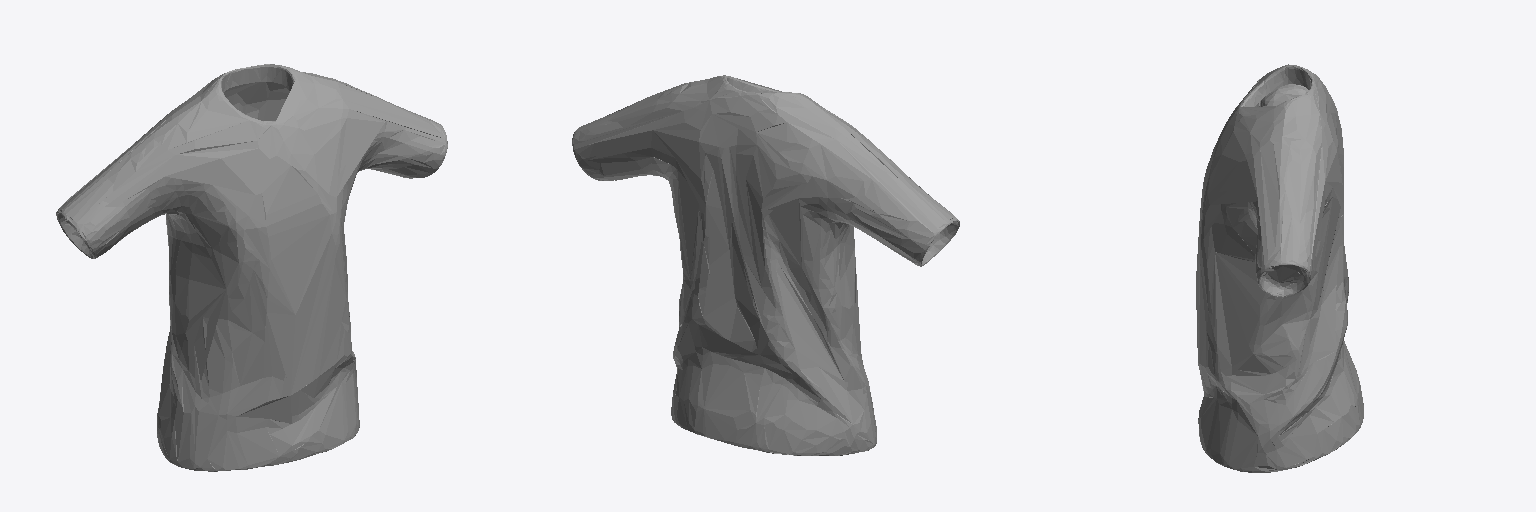
File: shirt_white.obj
3 renders of one model, left to right at view 1: azimuth 30°, elevation 25°; view 2: azimuth 150°, elevation 25°; view 3: azimuth 270°, elevation 25°, orthographic.
Parts seen in each view (by area): view 1: 22_GOREPORT_1_20_30; view 2: 22_GOREPORT_1_20_30; view 3: 22_GOREPORT_1_20_30.
Part boxes in pixels (bbox=[...]): 22_GOREPORT_1_20_30: bbox=[56, 64, 447, 471]; 22_GOREPORT_1_20_30: bbox=[572, 75, 959, 455]; 22_GOREPORT_1_20_30: bbox=[1196, 64, 1363, 472].
Size of the model in its own units: 2.01 by 1.81 by 0.7816.